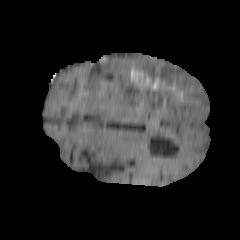glioma: (106, 55, 187, 129)
